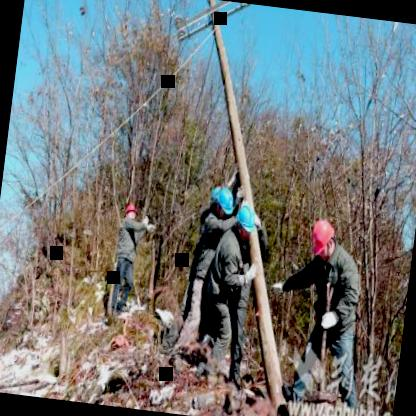helmet: (306, 214, 338, 260), (232, 202, 258, 244), (209, 185, 236, 224), (120, 200, 138, 228)
